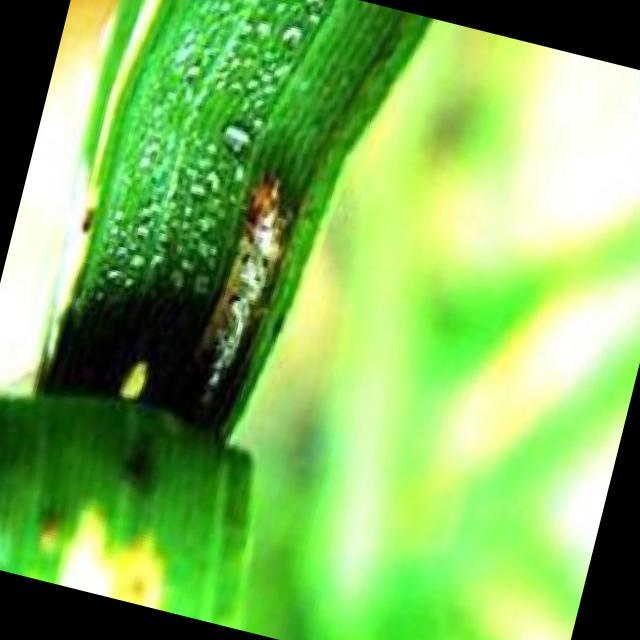leaf-folder: (151, 140, 331, 451)
